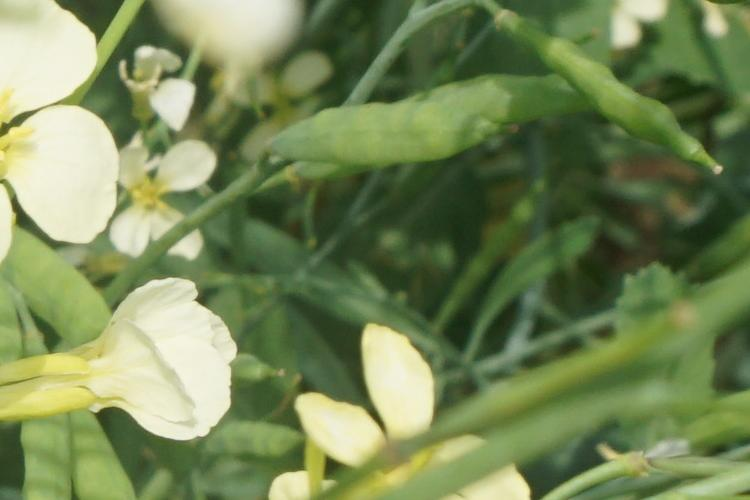pod: (512, 29, 727, 184), (254, 80, 512, 166)
white: (282, 318, 529, 497), (16, 276, 246, 444), (5, 14, 130, 241), (103, 139, 245, 268), (118, 52, 225, 151)
